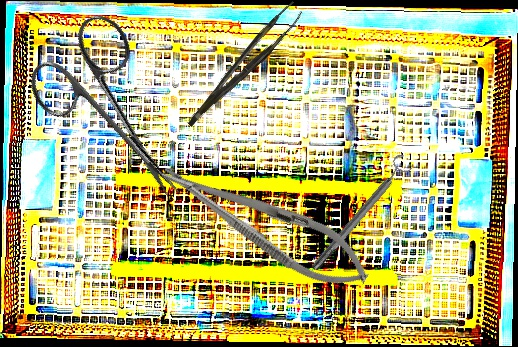Fixation Ring: (304, 151, 417, 276)
Iris Scissors: (15, 6, 222, 229)
Needle Holder: (151, 145, 380, 304)
Tissue Forceps: (173, 0, 311, 128)
